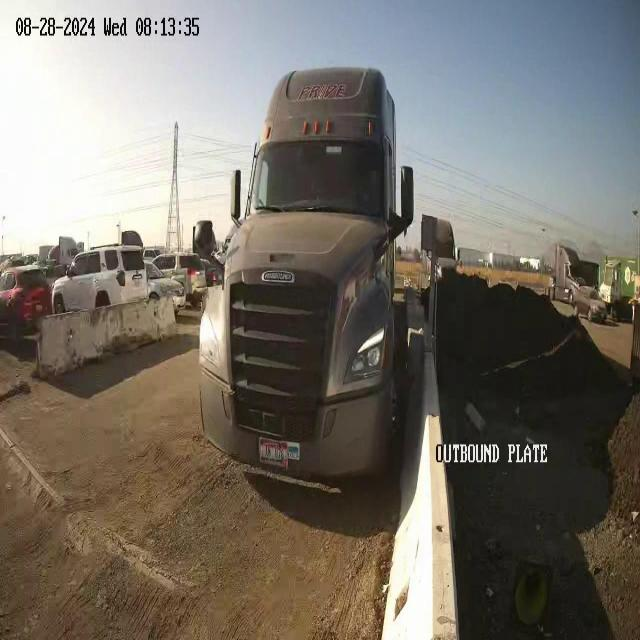TRUCK_OUT: (196, 65, 420, 486)
